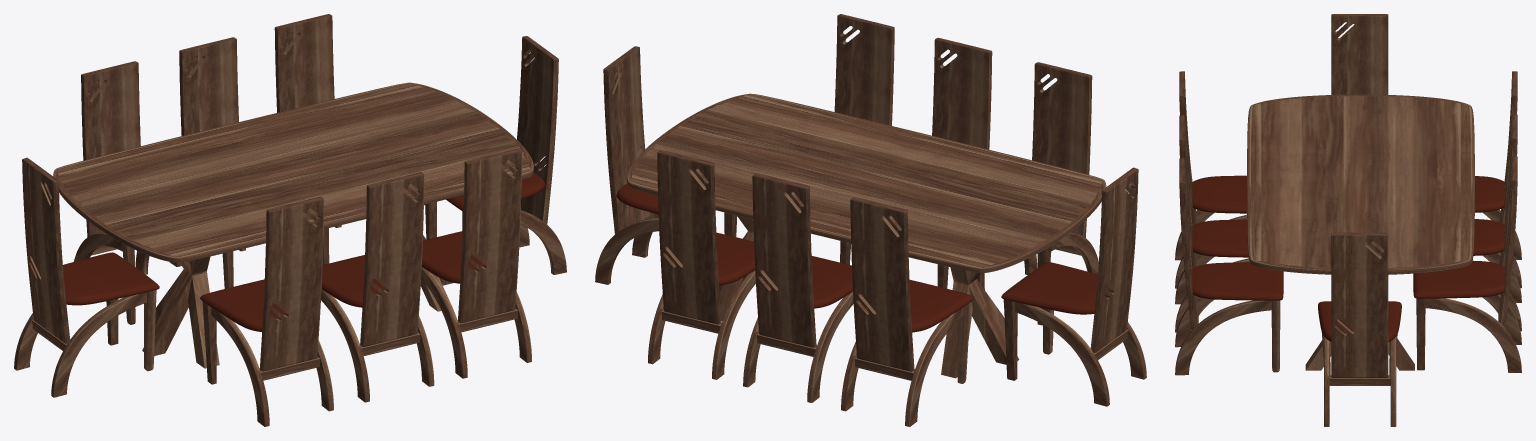
File: bois_d_afrique_demo_table_a_manger.glb
3 views of the same model, side by side, from view 1: azimuth 30°, elevation 25°; view 2: azimuth 150°, elevation 25°; view 3: azimuth 270°, elevation 25° (orthographic). The views are drawn at different scales.
Parts seen in each view (by area): view 1: Cube, Plane.010, Plane.003, Plane.005, Plane.006, Plane.004, Plane.009, Plane.008, Plane.007, Plane.001; view 2: Cube, Plane.009, Plane.003, Plane.008, Plane.007, Plane.004, Plane.010, Plane.005, Plane.006, Plane.001, Plane.002; view 3: Cube, Plane.004, Plane.006, Plane.007, Plane.003, Plane.005, Plane.010, Plane.008, Plane.009, Plane.002.
Part boxes in pixels (<box>): Cube: <box>53,82,533,262</box>; Plane.010: <box>200,196,333,426</box>; Plane.003: <box>14,157,159,397</box>; Plane.005: <box>321,172,434,402</box>; Plane.006: <box>421,148,531,378</box>; Plane.004: <box>425,36,566,274</box>; Plane.009: <box>74,61,149,324</box>; Plane.008: <box>169,37,245,288</box>; Plane.007: <box>274,14,341,264</box>; Plane.001: <box>142,256,219,368</box>; Cube: <box>627,93,1106,273</box>; Plane.009: <box>841,197,973,426</box>; Plane.003: <box>1001,167,1146,406</box>; Plane.008: <box>743,173,853,402</box>; Plane.007: <box>648,150,755,379</box>; Plane.004: <box>595,46,737,284</box>; Plane.010: <box>977,62,1098,325</box>; Plane.005: <box>932,38,992,288</box>; Plane.006: <box>834,14,894,264</box>; Plane.001: <box>941,267,1019,378</box>; Plane.002: <box>719,215,753,321</box>; Cube: <box>1247,94,1474,274</box>; Plane.004: <box>1318,232,1401,426</box>; Plane.006: <box>1175,158,1283,375</box>; Plane.007: <box>1413,156,1521,372</box>; Plane.003: <box>1331,14,1388,94</box>; Plane.005: <box>1175,115,1249,332</box>; Plane.010: <box>1175,71,1246,288</box>; Plane.008: <box>1473,114,1521,331</box>; Plane.009: <box>1475,71,1521,288</box>; Plane.002: <box>1305,274,1414,370</box>.
Bounding box in the file's own units: 2.8 × 1.1 × 1.82.
Materials: 3 (2 with a texture image).
